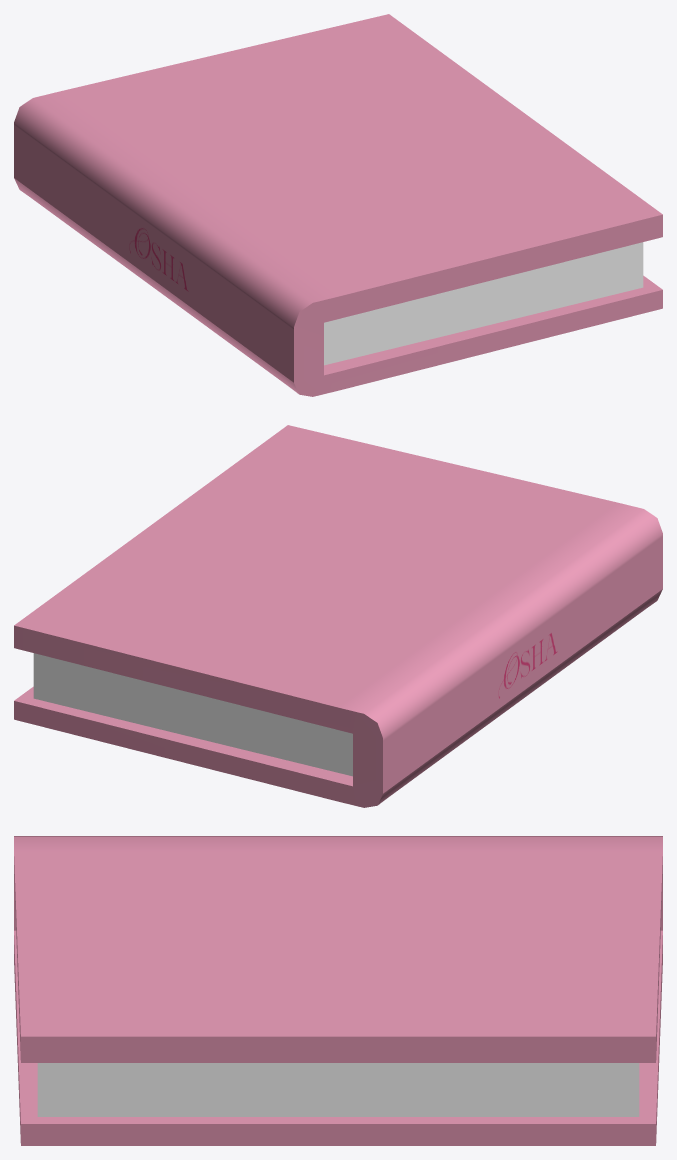
The model's file is furniture_decor_210029.glb.
3 views of the same model, one above another, from view 1: azimuth 30°, elevation 25°; view 2: azimuth 150°, elevation 25°; view 3: azimuth 270°, elevation 25° (orthographic). The views are drawn at different scales.
Visible parts, largest first — view 1: furniture_decor_210029; view 2: furniture_decor_210029; view 3: furniture_decor_210029.
Part boxes in pixels (bbox=[...]): furniture_decor_210029: bbox=[14, 14, 662, 396]; furniture_decor_210029: bbox=[14, 425, 662, 807]; furniture_decor_210029: bbox=[14, 836, 662, 1145].
Size of the model in its own units: 0.1987 by 0.048 by 0.2589.
1 material, 1 textured.
